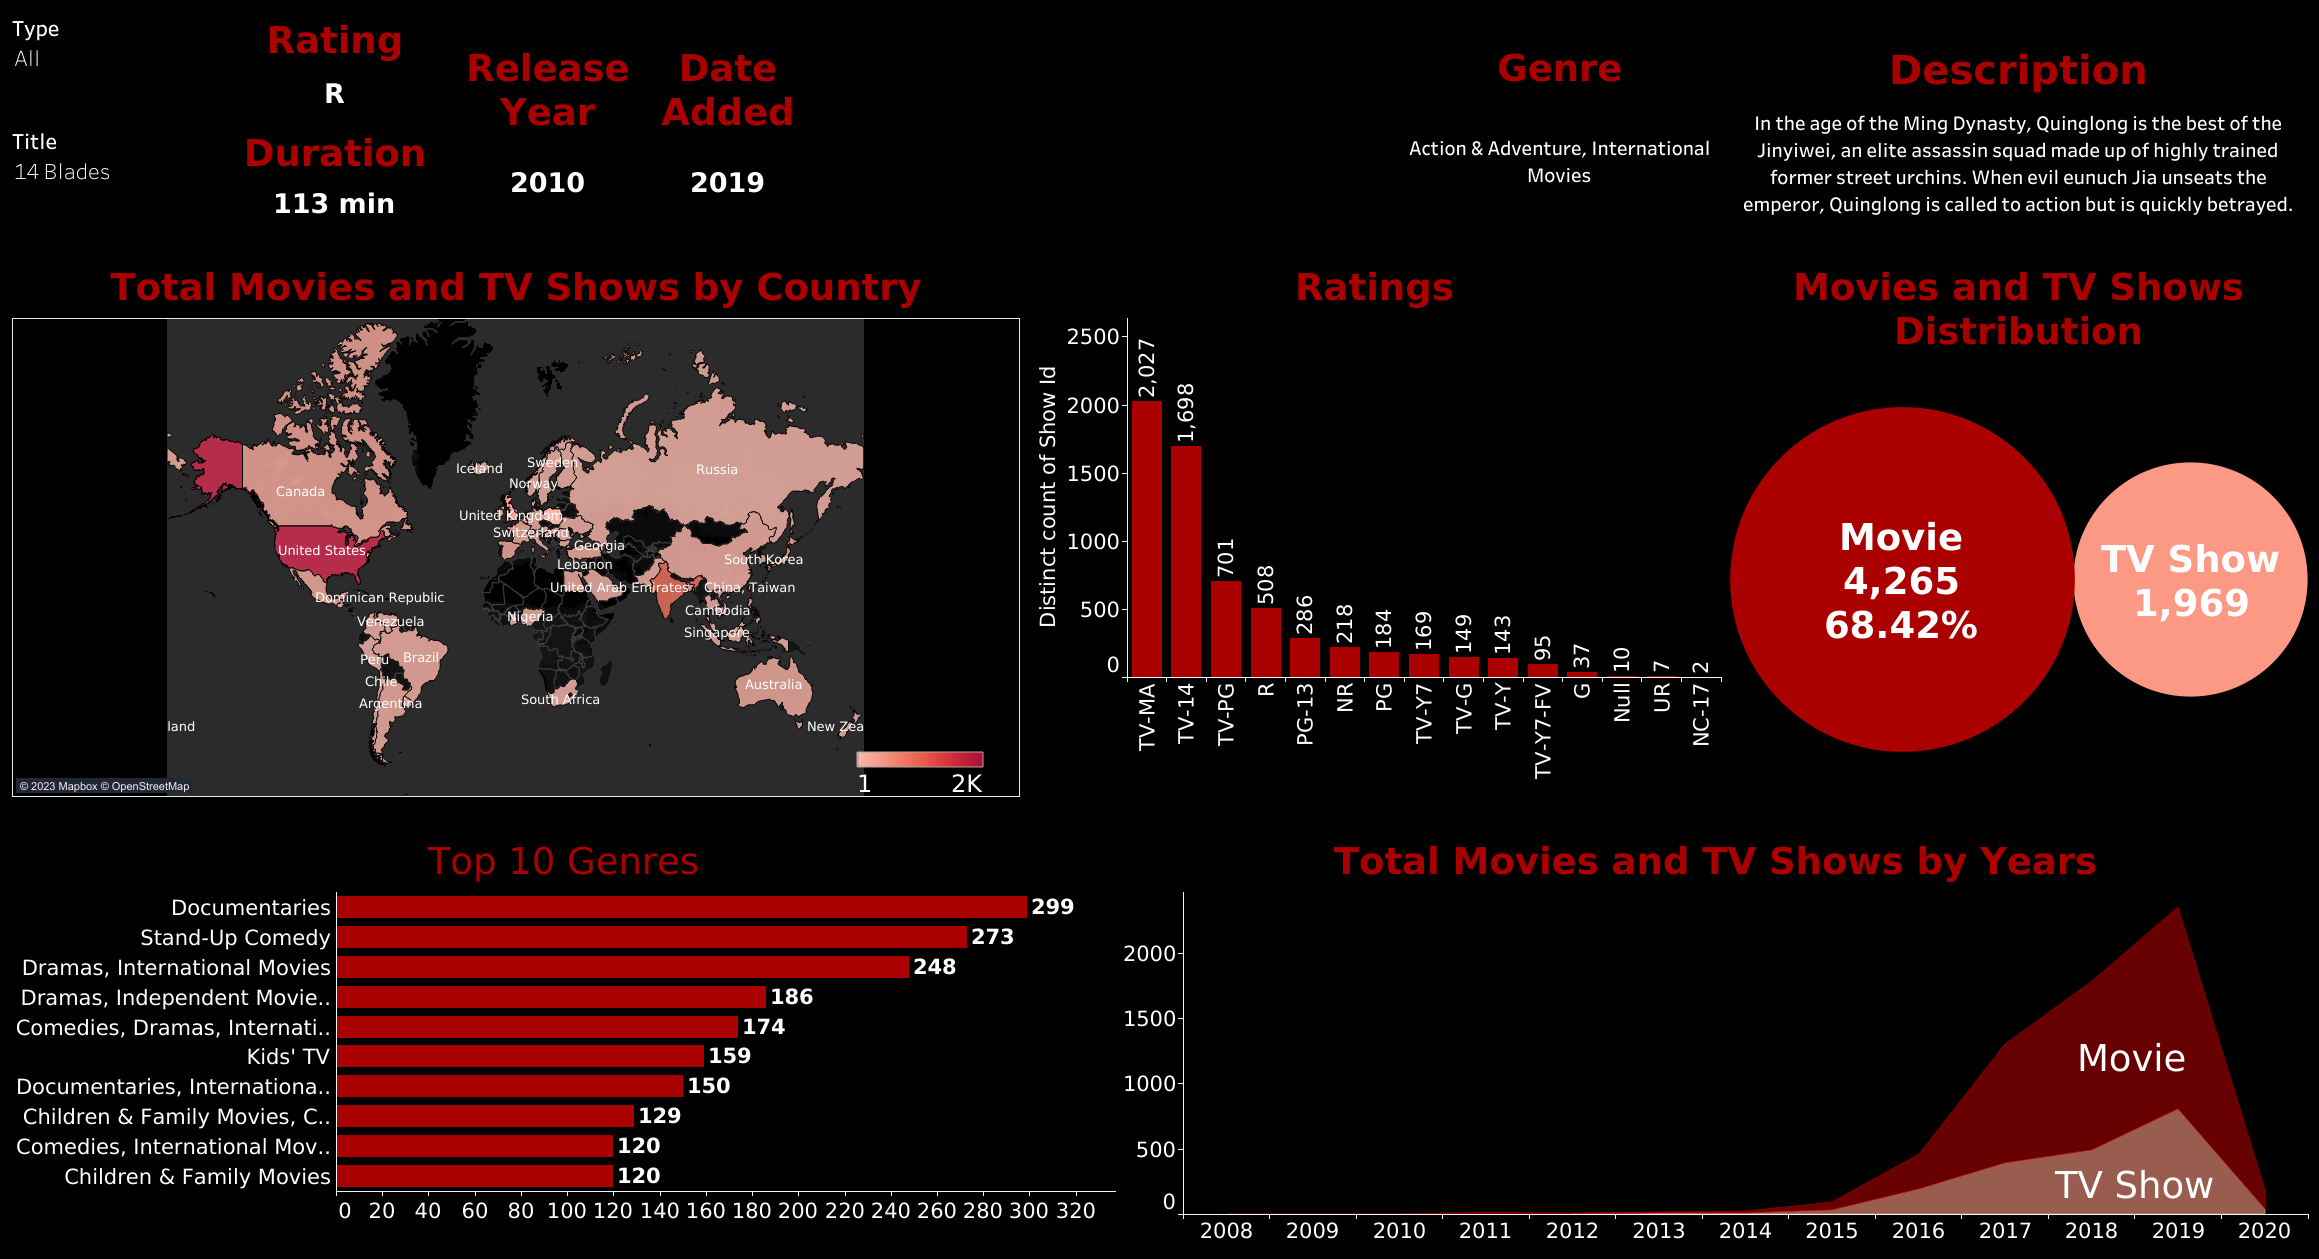

This screenshot's page, from the dashboard's own definition file:
{"tool":"tableau","page":{"name":"Netflix","canvas":[2320,1260],"ordinal":0},"visuals":[{"type":"filter","title":"Description","param":"[federated.1lxf7x71afsm6p111rd7a0wmi9q1].[none:type:nk]","box":[8,8,206,113]},{"type":"worksheet","title":"Rating","mark":"Automatic","box":[214,8,242,113]},{"type":"worksheet","title":"Release Year ","mark":"Automatic","box":[456,8,184,219]},{"type":"worksheet","title":"Date Added","mark":"Automatic","box":[640,8,176,219]},{"type":"image","box":[816,8,579,219]},{"type":"worksheet","title":"Genre","mark":"Automatic","box":[1395,8,330,219]},{"type":"worksheet","title":"Description","mark":"Automatic","box":[1725,8,587,219]},{"type":"filter","title":"Description","param":"[federated.1lxf7x71afsm6p111rd7a0wmi9q1].[none:title:nk]","box":[8,121,206,106]},{"type":"worksheet","title":"Duration","mark":"Automatic","box":[214,121,242,106]},{"type":"worksheet","title":"Total Movies and TV Shows by Country","mark":"Multipolygon","box":[8,227,1016,573.9]},{"type":"worksheet","title":"Ratings","mark":"Automatic","rows":["show_id"],"cols":["rating"],"box":[1024,227,701,573.9]},{"type":"worksheet","title":"Movies and TV Shows Distribution","mark":"Circle","box":[1725,227,587,573.9]},{"type":"legend","title":"Total Movies and TV Shows by Country","param":"[federated.1lxf7x71afsm6p111rd7a0wmi9q1].[ctd:show_id:qk]","box":[853,748,135,77]},{"type":"worksheet","title":"Top 10 Genres","mark":"Automatic","rows":["listed_in"],"cols":["show_id"],"box":[8,800.9,1111,451.1]},{"type":"worksheet","title":"Total Movies & TV Shows by Years","mark":"Area","rows":["show_id"],"cols":["date_added"],"box":[1119.1,800.9,1192.9,451.1]}]}

Visuals, with their boxes in screenshot pixels (x1, y1, x2, y2), scaled from the page's 2320x1260 canvas onto the 2319x1259 screenshot:
"Description" filter: {"x1": 8, "y1": 8, "x2": 214, "y2": 121}
"Rating" worksheet: {"x1": 214, "y1": 8, "x2": 456, "y2": 121}
"Release Year " worksheet: {"x1": 456, "y1": 8, "x2": 640, "y2": 227}
"Date Added" worksheet: {"x1": 640, "y1": 8, "x2": 816, "y2": 227}
image: {"x1": 816, "y1": 8, "x2": 1394, "y2": 227}
"Genre" worksheet: {"x1": 1394, "y1": 8, "x2": 1724, "y2": 227}
"Description" worksheet: {"x1": 1724, "y1": 8, "x2": 2311, "y2": 227}
"Description" filter: {"x1": 8, "y1": 121, "x2": 214, "y2": 227}
"Duration" worksheet: {"x1": 214, "y1": 121, "x2": 456, "y2": 227}
"Total Movies and TV Shows by Country" worksheet (Multipolygon marks): {"x1": 8, "y1": 227, "x2": 1024, "y2": 800}
"Ratings" worksheet: {"x1": 1024, "y1": 227, "x2": 1724, "y2": 800}
"Movies and TV Shows Distribution" worksheet (Circle marks): {"x1": 1724, "y1": 227, "x2": 2311, "y2": 800}
"Total Movies and TV Shows by Country" legend: {"x1": 853, "y1": 747, "x2": 988, "y2": 824}
"Top 10 Genres" worksheet: {"x1": 8, "y1": 800, "x2": 1119, "y2": 1251}
"Total Movies & TV Shows by Years" worksheet (Area marks): {"x1": 1119, "y1": 800, "x2": 2311, "y2": 1251}
